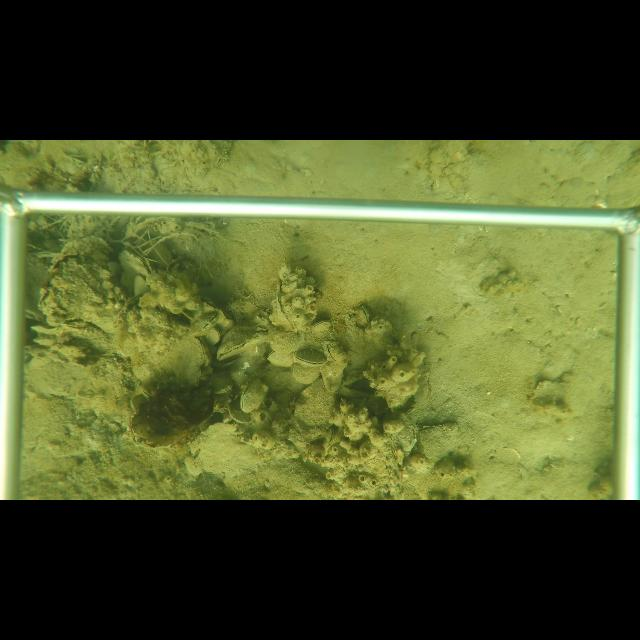Oyster-Closed: (147, 338, 210, 388), (292, 378, 337, 431), (217, 328, 270, 360), (271, 280, 301, 333), (237, 379, 266, 413), (117, 249, 151, 276), (188, 312, 219, 337), (293, 349, 328, 370), (289, 364, 322, 385), (266, 348, 294, 368), (321, 341, 340, 365), (204, 327, 223, 349), (355, 304, 372, 326), (310, 319, 333, 334)
